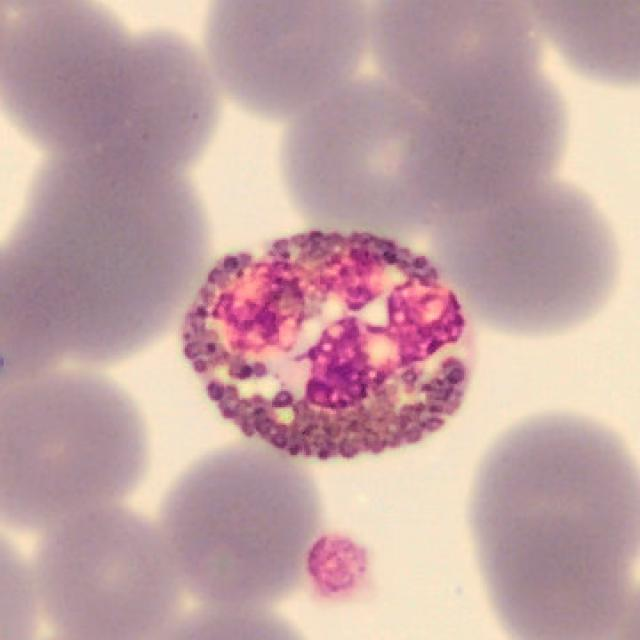Eosinofilo: (181, 231, 476, 460)
